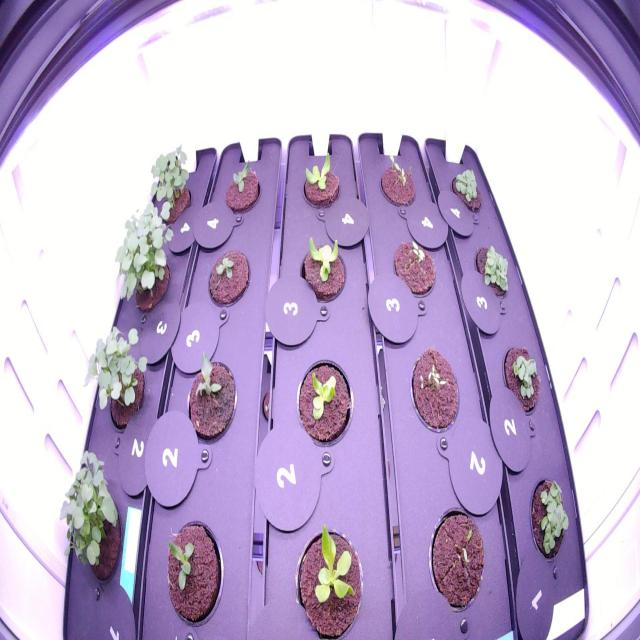germination: (422, 494, 489, 623), (404, 336, 464, 444), (526, 472, 574, 568), (386, 229, 439, 313), (499, 335, 545, 419), (375, 147, 421, 216), (471, 236, 513, 304), (446, 160, 487, 219)
young: (286, 513, 369, 638), (156, 510, 229, 633), (180, 337, 242, 450), (292, 348, 357, 453), (292, 225, 350, 316), (202, 239, 255, 313), (294, 146, 342, 217), (220, 155, 266, 223)
